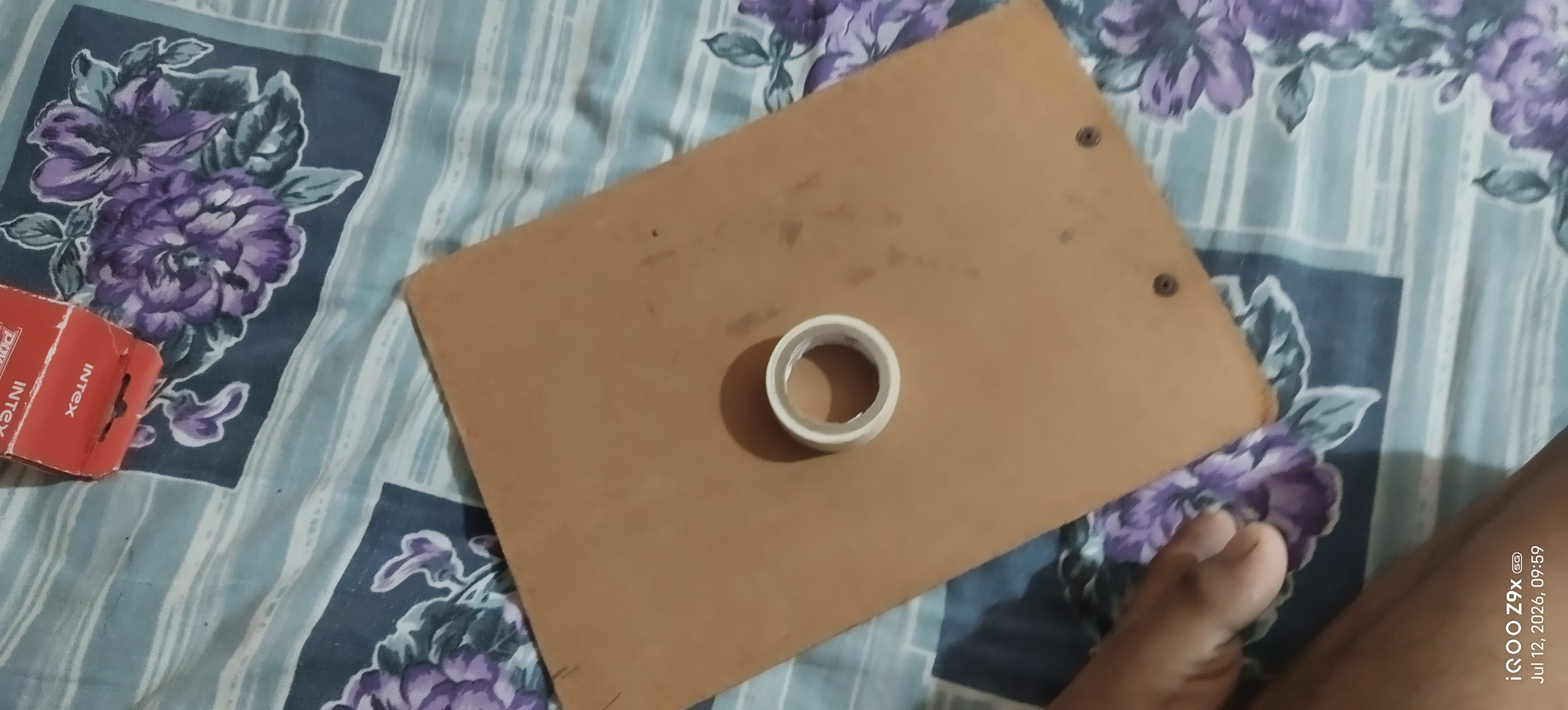tape_roll: (751, 305, 914, 465)
